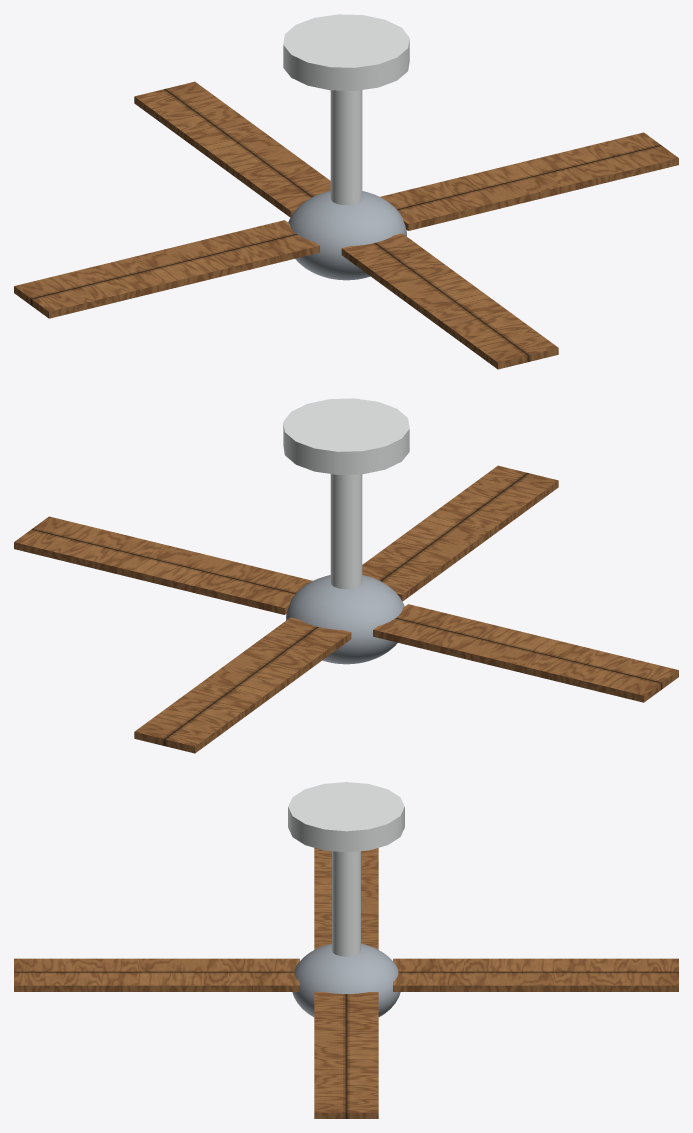
File: Ventilator_mennyezeti.obj
3 views of the same model, one above another, from view 1: azimuth 30°, elevation 25°; view 2: azimuth 150°, elevation 25°; view 3: azimuth 270°, elevation 25° (orthographic). The views are drawn at different scales.
Bounding box in the file's own units: 1.14 × 0.4 × 1.14.
Materials: 3 (1 with a texture image).
